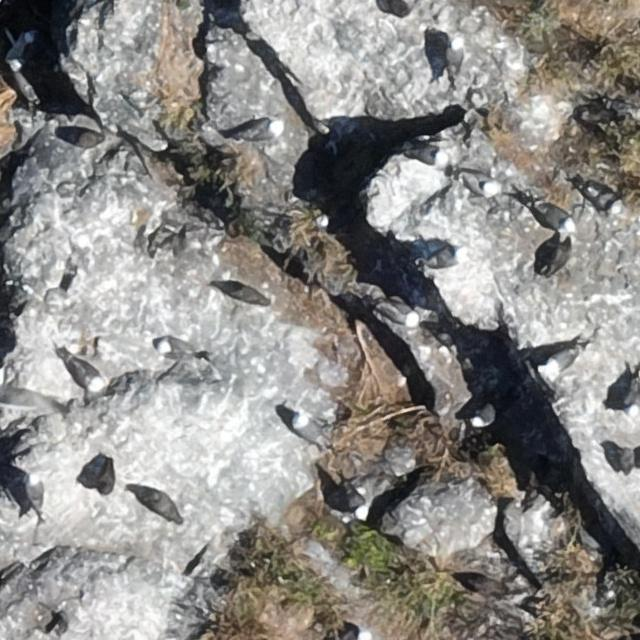umineko: (69, 359, 103, 388), (540, 207, 572, 230), (545, 348, 575, 370), (347, 491, 366, 519), (294, 416, 314, 441), (26, 474, 42, 504), (472, 406, 495, 426), (414, 149, 439, 166), (448, 40, 461, 70)
